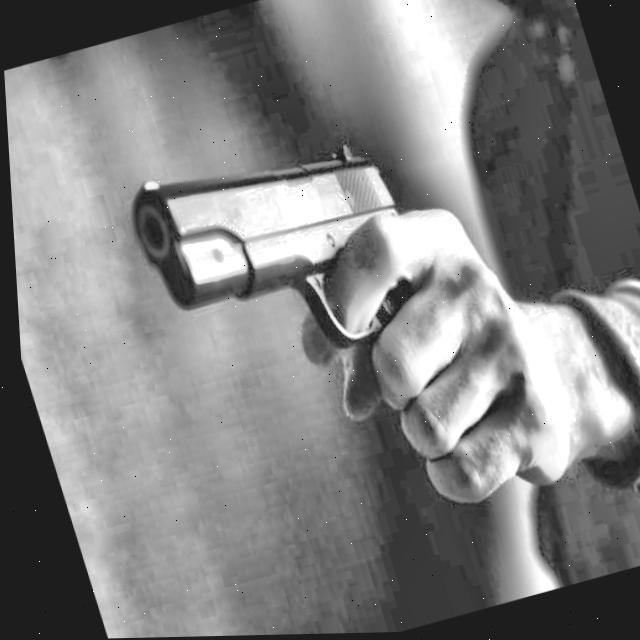pistol: (104, 137, 468, 422)
